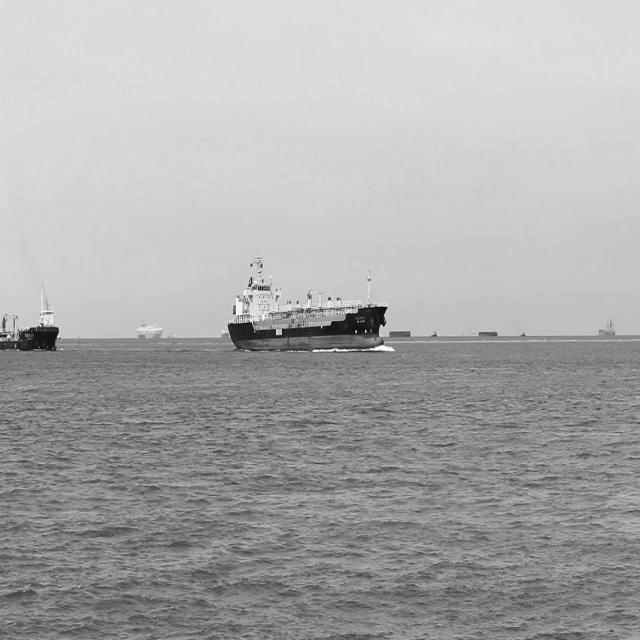ship: (224, 254, 388, 353), (0, 280, 62, 353), (134, 322, 163, 341), (40, 300, 60, 326), (598, 316, 618, 341)
